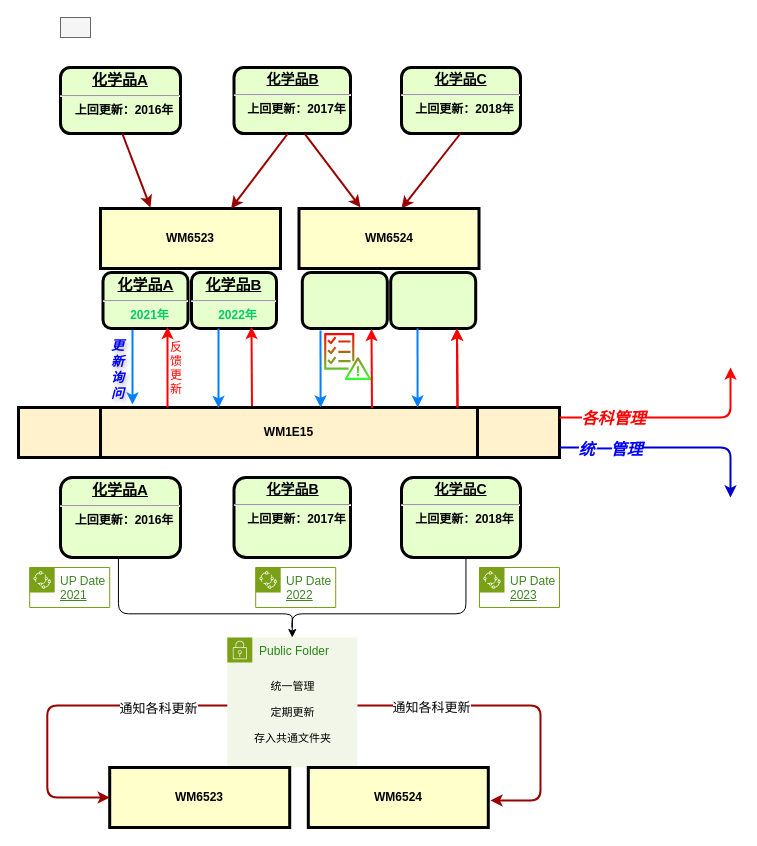
Image size: 757x846. Some labels were removed from this diagram. The box of each missing label's shape, as (x1, y1, x2, y2) in pixels:
化学品B 2023年: (300, 270, 388, 330)
化学品C 2023年: (389, 270, 477, 330)
示例: (60, 16, 90, 38)
过期: (323, 332, 371, 380)
